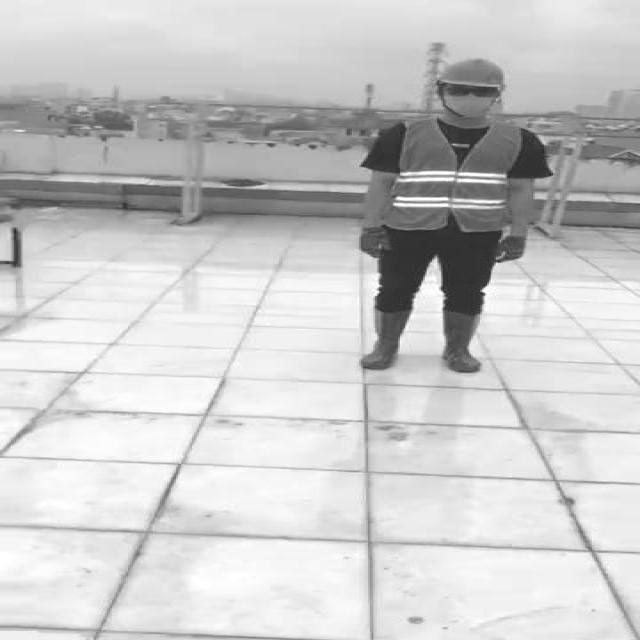boots: (359, 310, 413, 372), (437, 310, 487, 371)
face_mask: (437, 82, 505, 121)
glasses: (443, 82, 503, 102)
hand_glove: (357, 228, 395, 260), (492, 237, 528, 266)
head_helmet: (436, 55, 510, 92)
person: (348, 54, 553, 376)
vest: (389, 121, 523, 233)
